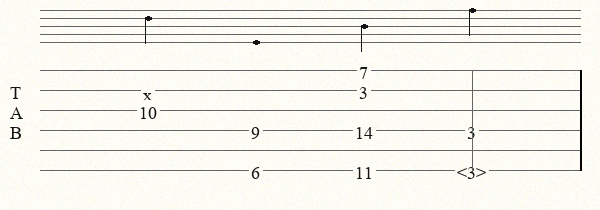10: (139, 102, 161, 118)
11: (355, 162, 377, 178)
14: (355, 122, 377, 138)
3: (359, 82, 372, 98), (467, 122, 480, 138)
6: (251, 162, 264, 178)
7: (359, 62, 372, 78)
9: (251, 122, 264, 138)
harmonic: (457, 162, 490, 178)
x: (143, 84, 156, 96)
